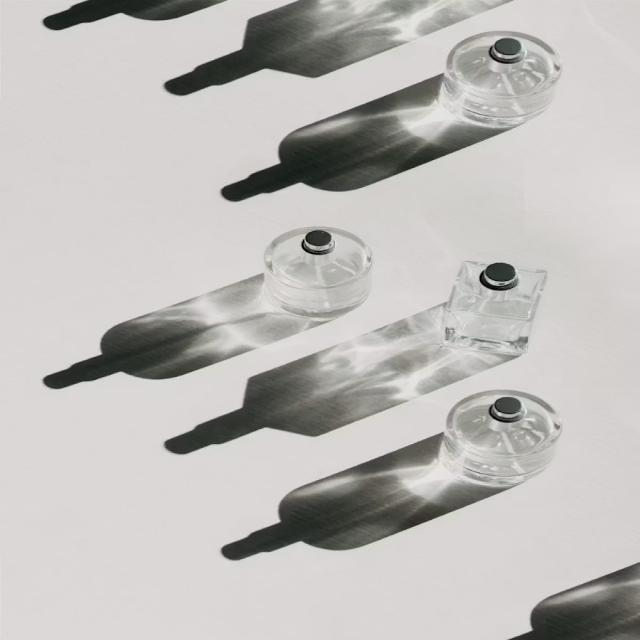Bottle: (166, 305, 509, 453), (222, 76, 505, 201), (222, 434, 503, 559), (166, 0, 510, 95), (441, 391, 561, 487), (441, 32, 561, 127), (264, 227, 372, 318), (512, 564, 639, 639), (444, 261, 546, 354), (44, 0, 223, 29)
